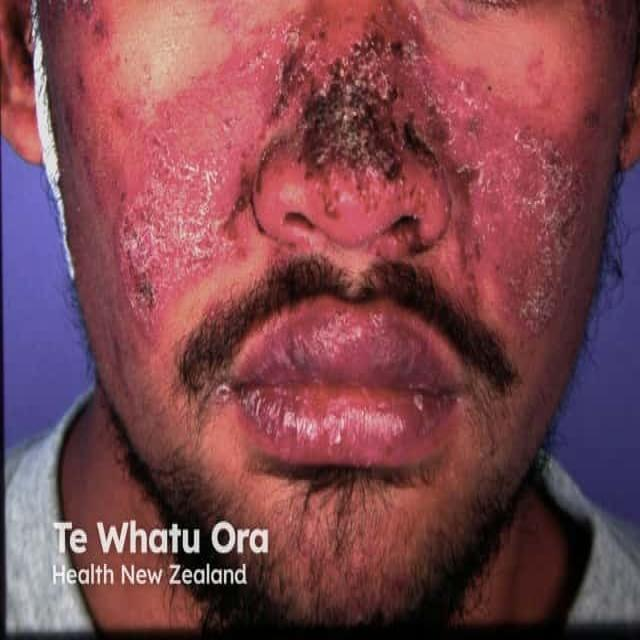lupus-detected: (25, 0, 640, 411), (228, 318, 568, 510)
